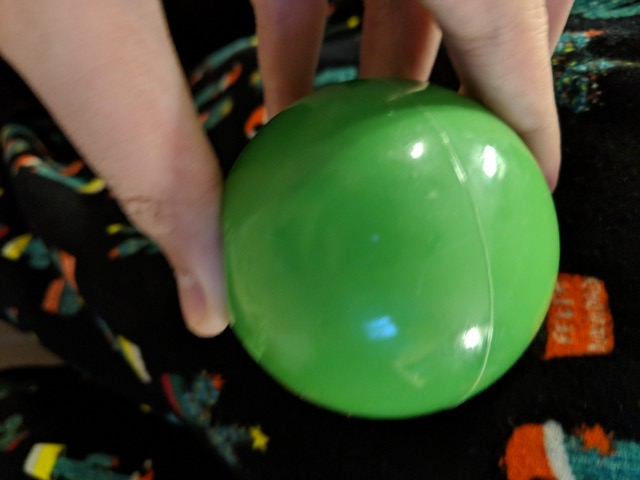ball: (214, 76, 563, 417)
